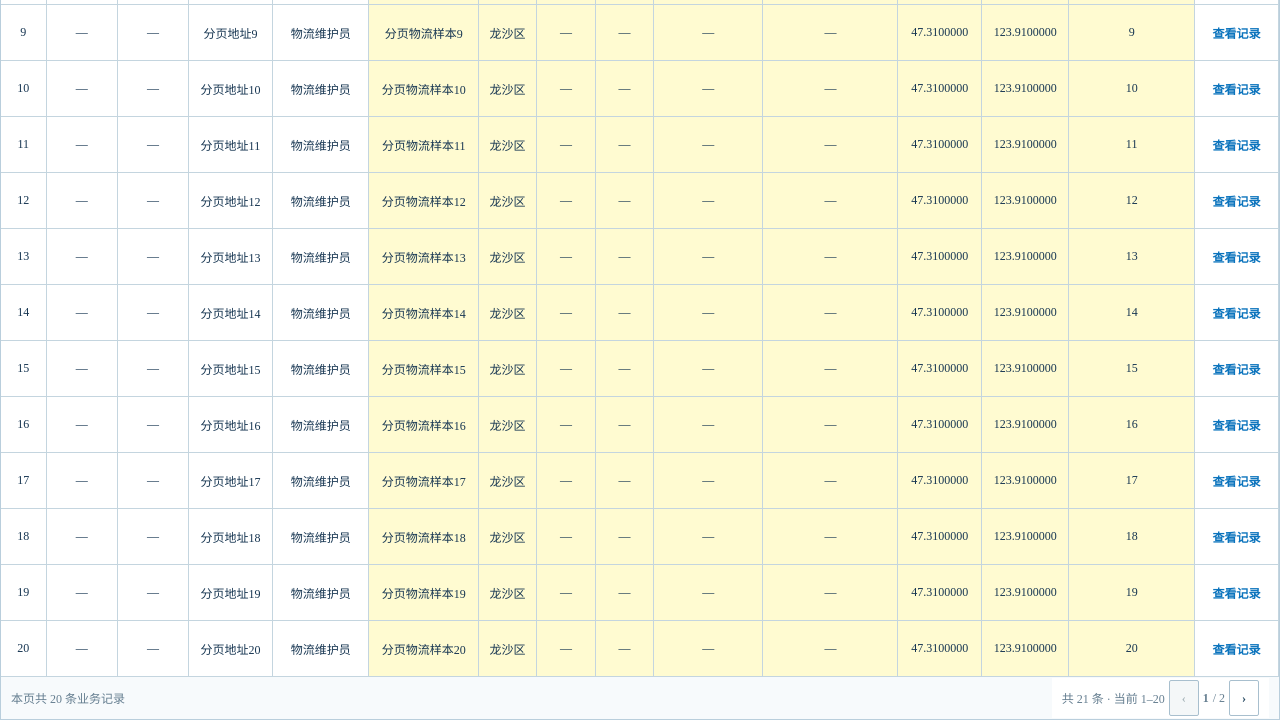
Test: logistics monitoring workspace › shows at most twenty formal samples per page
The width and height of the screenshot is (1280, 720).
(page scrolled)
Check: the text "共 21 条 · 当前 1–20" is shown, box [1062,689,1165,707]
Click the button named "下一页": (1244, 698) [1229,680,1259,716]
(page scrolled)
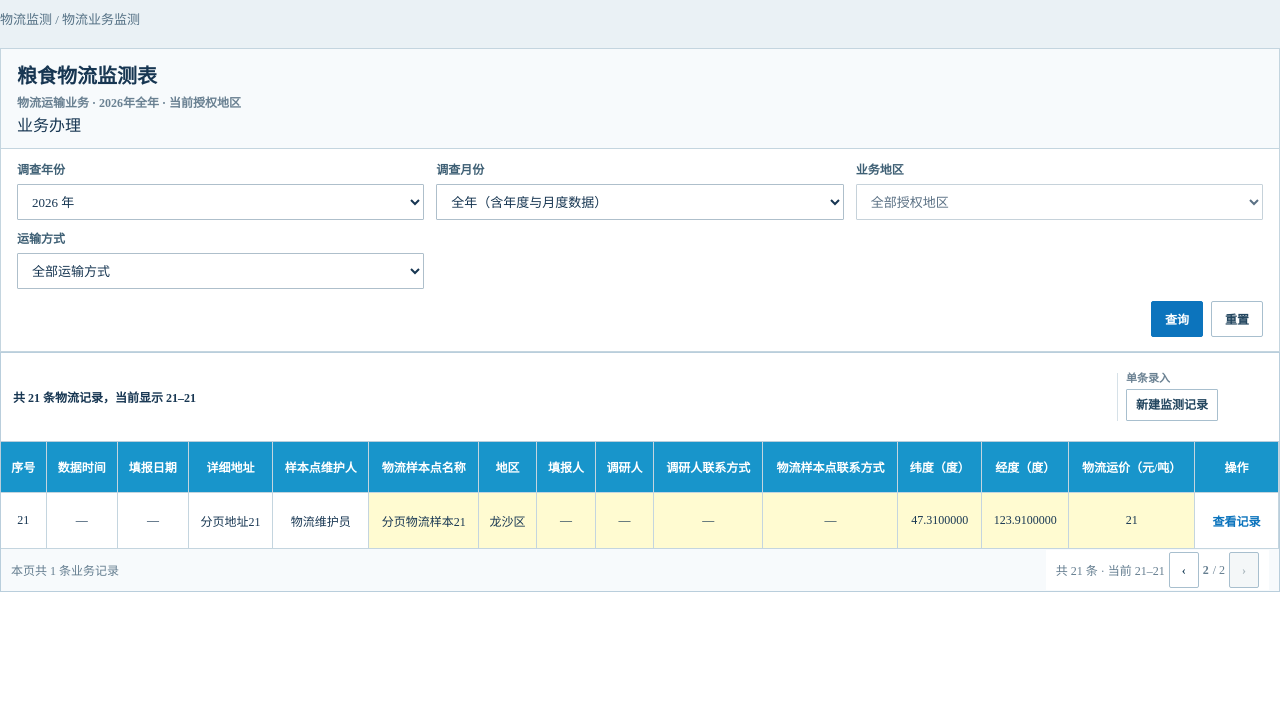
Check: the number of rows is 2, box [1,442,1278,493]; [1,493,1278,549]
Check: the text "共 21 条物流记录，当前显示 21–21" is shown, box [13,388,196,406]
Check: the text "共 21 条 · 当前 21–21" is shown, box [1056,561,1165,579]
